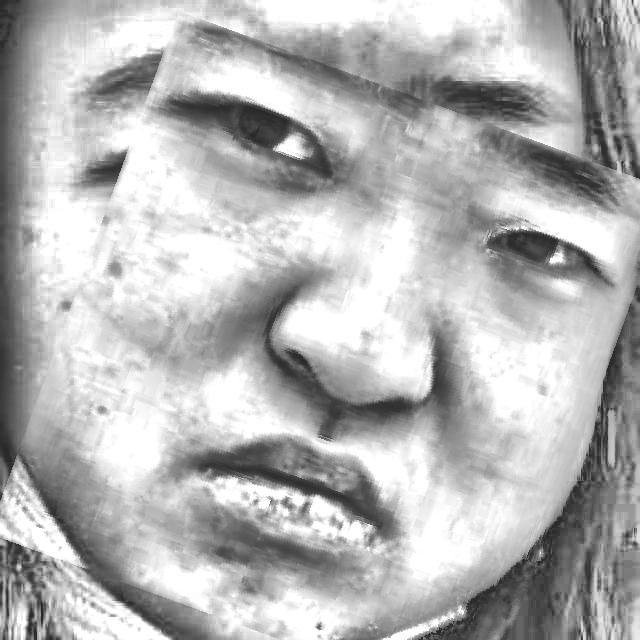angry: (27, 47, 631, 640)
